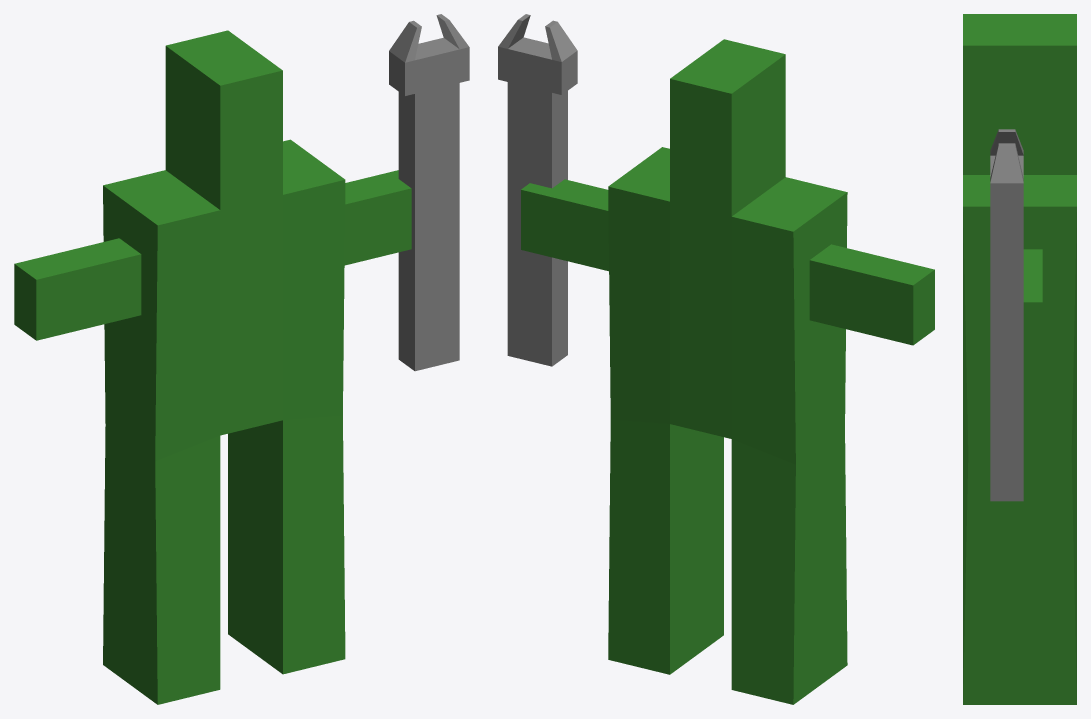
The model's file is playerB.fbx.
3 renders of one model, left to right at view 1: azimuth 30°, elevation 25°; view 2: azimuth 150°, elevation 25°; view 3: azimuth 270°, elevation 25°, orthographic. The views are drawn at different scales.
Visible parts, largest first — view 1: Cube.007; view 2: Cube.007; view 3: Cube.007.
Boxes of the visible parts, x1,y1,x2,y2 form: Cube.007: [14, 14, 469, 704]; Cube.007: [498, 14, 934, 704]; Cube.007: [963, 14, 1076, 704].
Size of the model in its own units: 86.11 by 116 by 19.02.
